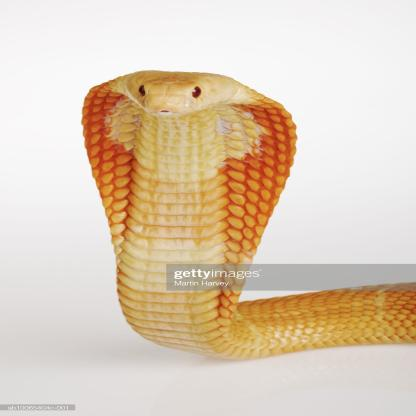Snake: (75, 67, 416, 366)
